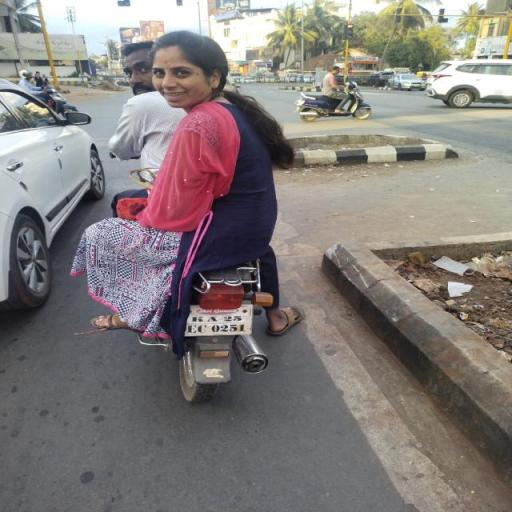bike: (80, 26, 311, 404)
numberplate: (187, 306, 254, 338)
withouthelmet: (152, 33, 220, 104), (124, 43, 154, 93)
